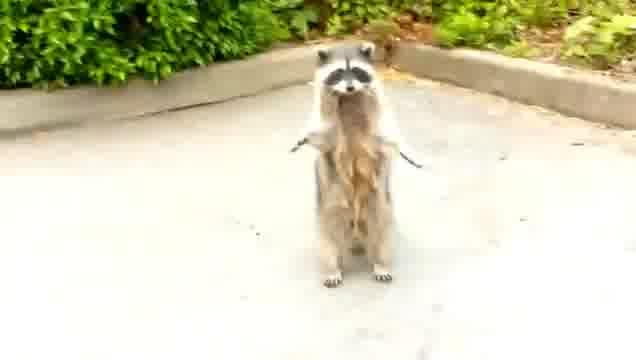raccoon: (286, 37, 425, 290)
